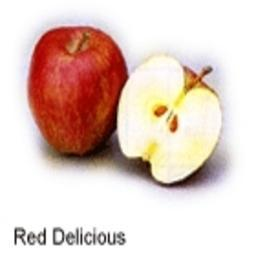apple: (26, 26, 128, 158)
